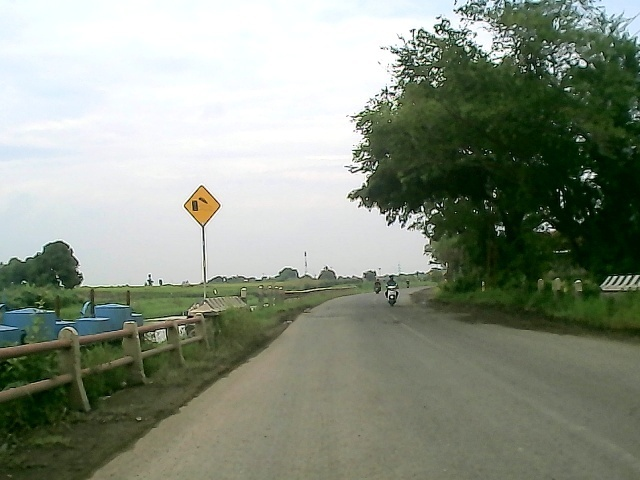Peringatan tepi air: (182, 185, 223, 229)
